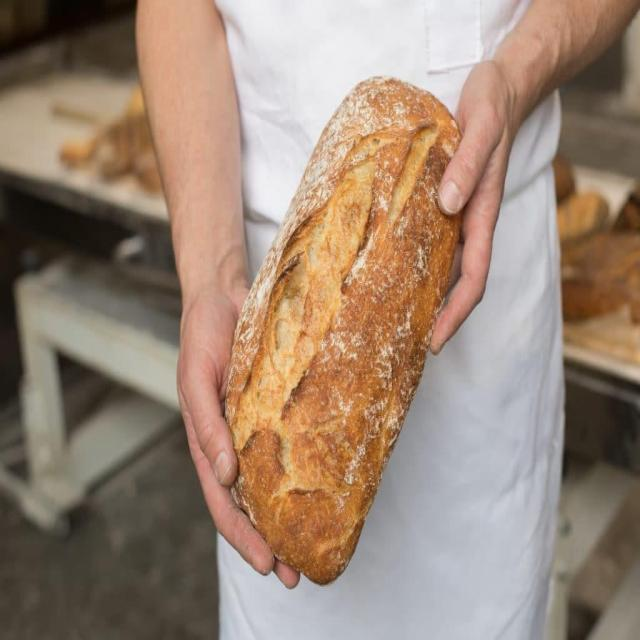Ciabatta: (226, 80, 461, 584)
